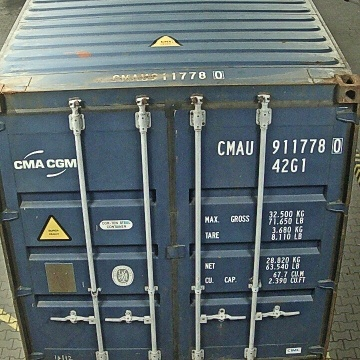serial_id: (217, 138, 343, 155)
